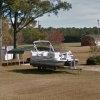Boat: (25, 35, 88, 80)
